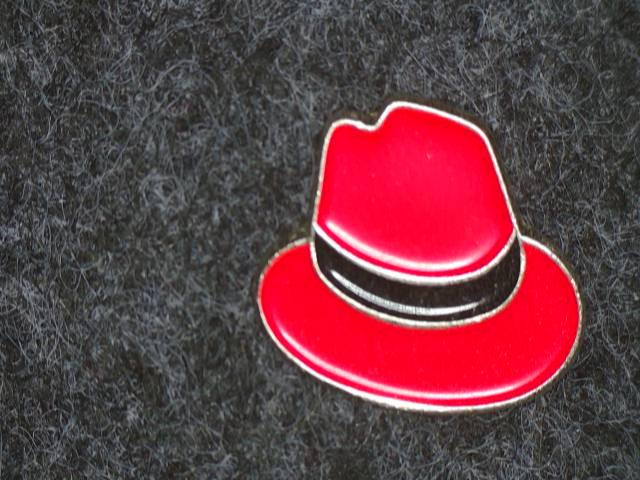Red-Hat: (207, 77, 619, 443)
